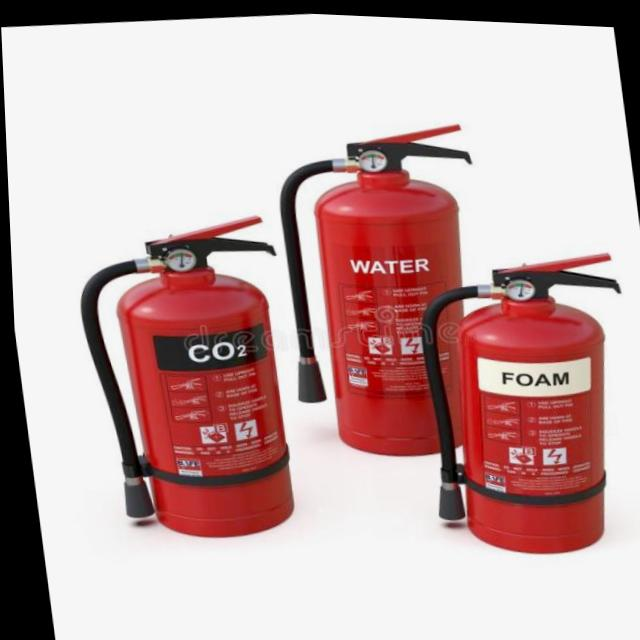FireExtinguisher: (254, 104, 517, 474), (62, 199, 318, 551), (390, 234, 640, 568)
